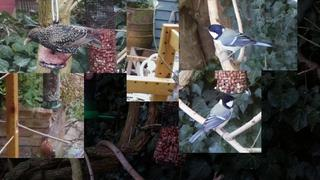great tit: (203, 24, 273, 64), (188, 94, 237, 143)
starling: (24, 24, 103, 54)
